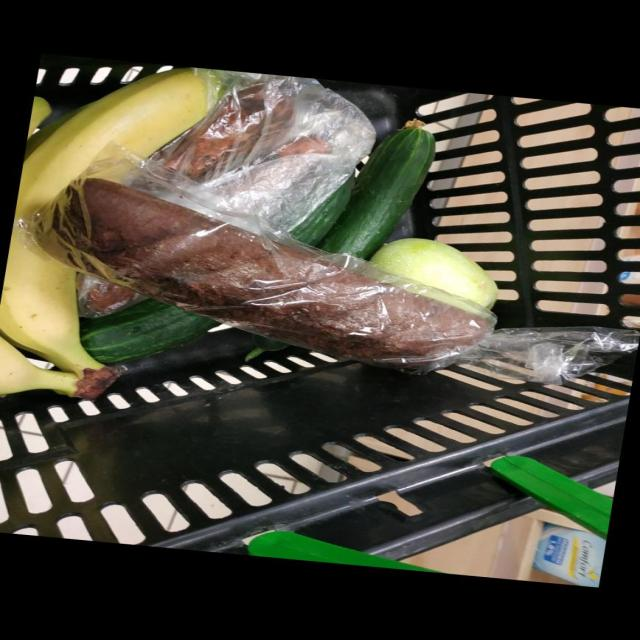Apple: (371, 237, 498, 308)
Banana: (13, 68, 209, 224), (0, 226, 120, 400)
Bread: (27, 176, 493, 367)
Carrot: (152, 84, 266, 183), (77, 272, 145, 317)
Cucumber: (319, 125, 435, 258), (80, 298, 217, 362), (292, 176, 356, 246)
